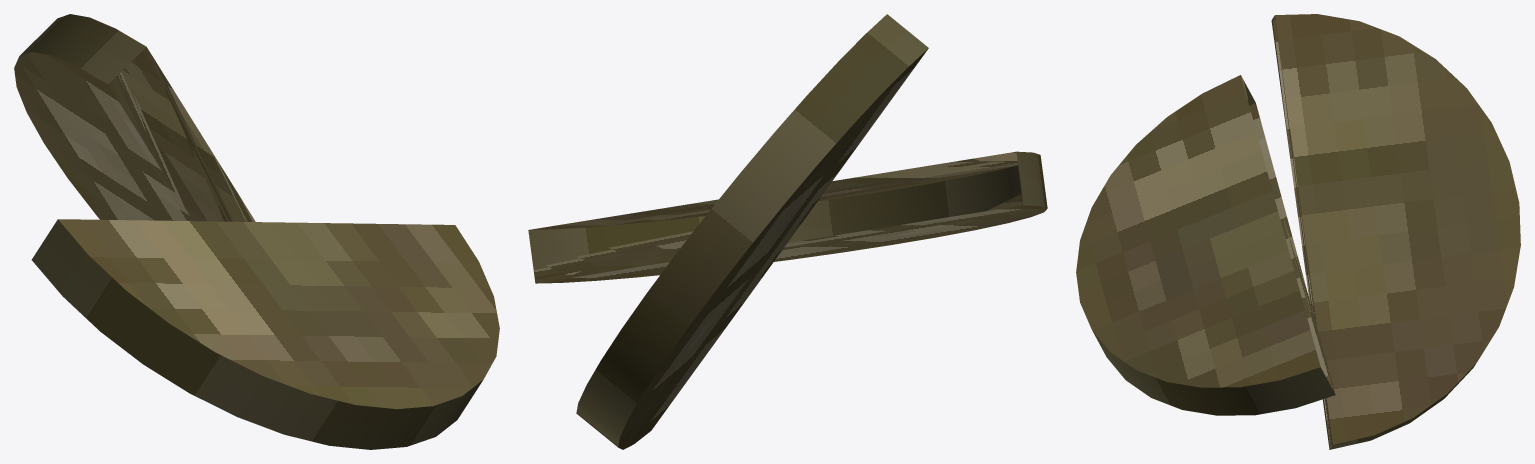
Rendered from IronCoinConsumed.fbx.
The picture shows the model from 3 angles, left to right: view 1: azimuth 30°, elevation 25°; view 2: azimuth 150°, elevation 25°; view 3: azimuth 270°, elevation 25°; orthographic projection. The views are drawn at different scales.
Parts seen in each view (by area): view 1: IronCoinConsumed; view 2: IronCoinConsumed; view 3: IronCoinConsumed.
Boxes of the visible parts, left/top/right/bottom form: IronCoinConsumed: left=14, top=14, right=499, bottom=449; IronCoinConsumed: left=528, top=14, right=1047, bottom=449; IronCoinConsumed: left=1076, top=14, right=1520, bottom=449.
Bounding box in the file's own units: 427 × 396 × 449.
Materials: 2 (2 with a texture image).
